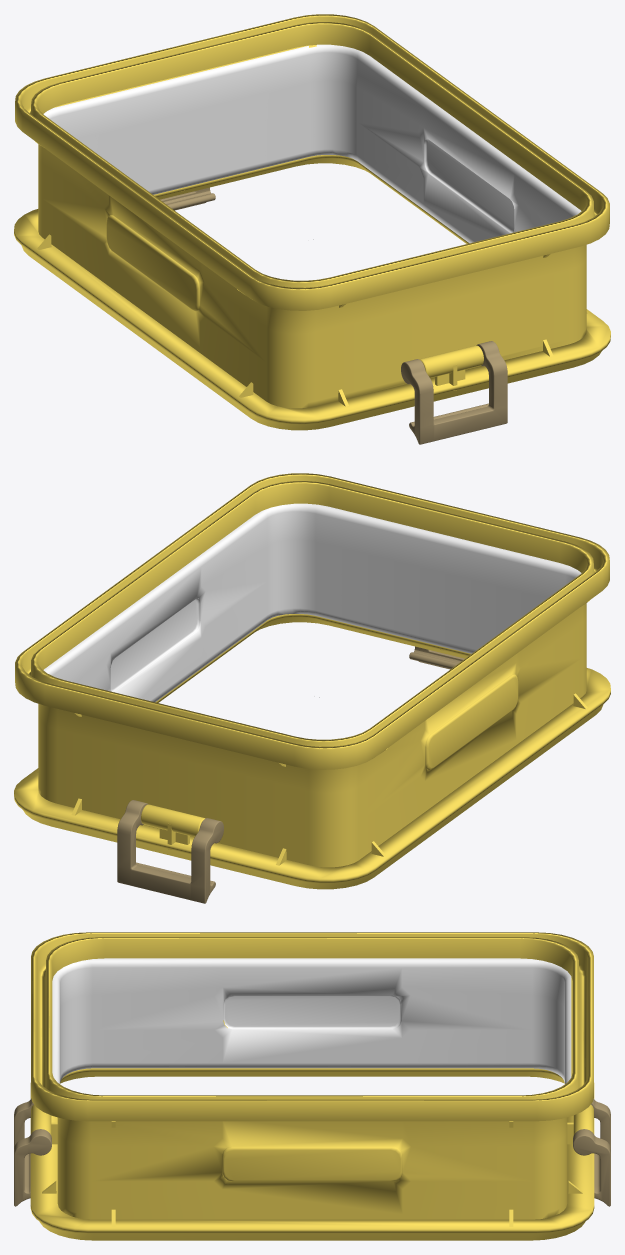
Rendered from 360extender.glb.
3 renders of one model, top to bottom at view 1: azimuth 30°, elevation 25°; view 2: azimuth 150°, elevation 25°; view 3: azimuth 270°, elevation 25°, orthographic.
Parts seen in each view (by area): view 1: Cube.054, Cube.053, Plane.037, Plane.038, Circle.008, Cube.055; view 2: Cube.054, Cube.053, Plane.037, Plane.038, Circle.008, Cube.055; view 3: Cube.053, Cube.054, Plane.037, Plane.038, Circle.008, Cube.055, Cube.056.
Boxes of the visible parts, x1=… form: Cube.054: x1=38, y1=45, x2=586, y2=408; Cube.053: x1=43, y1=44, x2=581, y2=243; Plane.037: x1=15, y1=14, x2=609, y2=310; Plane.038: x1=14, y1=155, x2=610, y2=430; Circle.008: x1=160, y1=187, x2=507, y2=444; Cube.055: x1=181, y1=190, x2=483, y2=390; Cube.054: x1=38, y1=603, x2=586, y2=867; Cube.053: x1=43, y1=503, x2=581, y2=702; Plane.037: x1=15, y1=473, x2=609, y2=769; Plane.038: x1=14, y1=614, x2=610, y2=889; Circle.008: x1=117, y1=646, x2=464, y2=903; Cube.055: x1=141, y1=649, x2=443, y2=849; Cube.053: x1=52, y1=958, x2=571, y2=1083; Cube.054: x1=57, y1=977, x2=572, y2=1219; Plane.037: x1=31, y1=932, x2=593, y2=1121; Plane.038: x1=30, y1=1068, x2=594, y2=1240; Circle.008: x1=14, y1=1098, x2=610, y2=1206; Cube.055: x1=31, y1=1104, x2=593, y2=1144; Cube.056: x1=42, y1=1181, x2=582, y2=1226.
Size of the model in its own units: 4.43 by 2.05 by 6.57.
